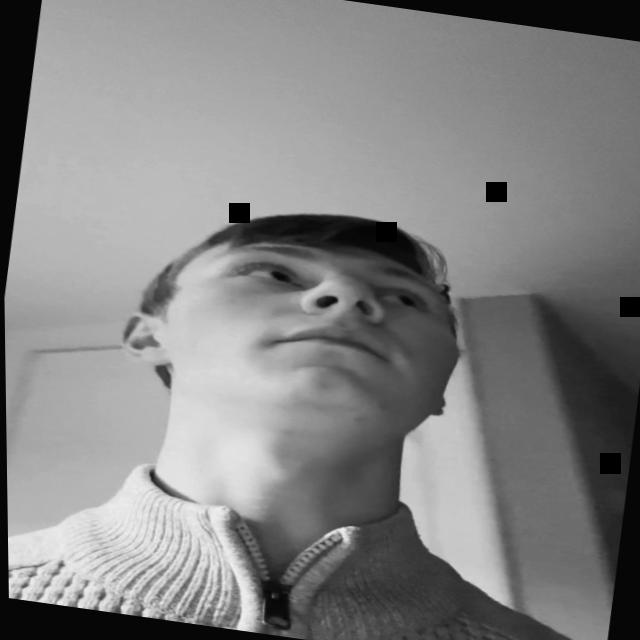NO-Mask: (112, 216, 472, 502)
